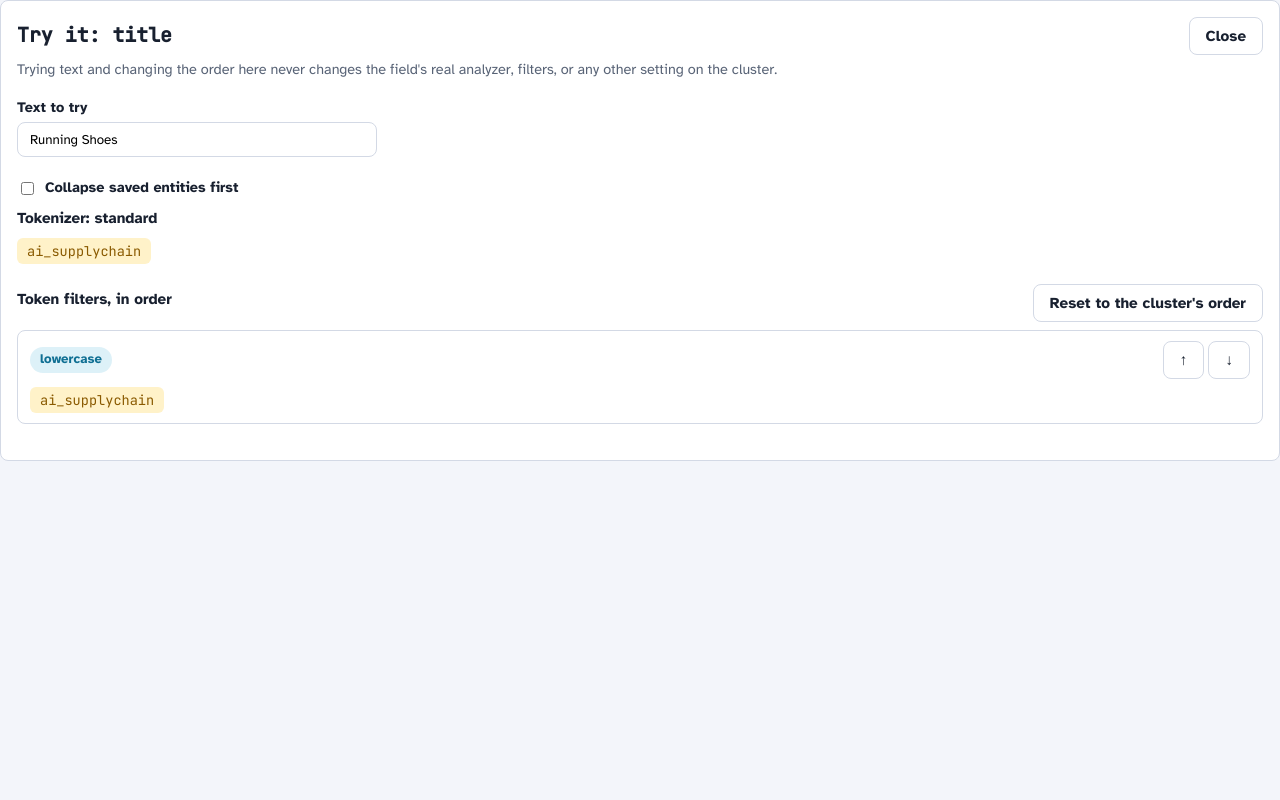
Test: FieldPlayground › shows the entity switch only when an entity list is saved, sends the joined form, and displays the original spacing (R10.4, R10.5)
Replace the text in the field labelled "Text to try" with "ai supplychain tools" at (197, 140), box [17,122,377,157]
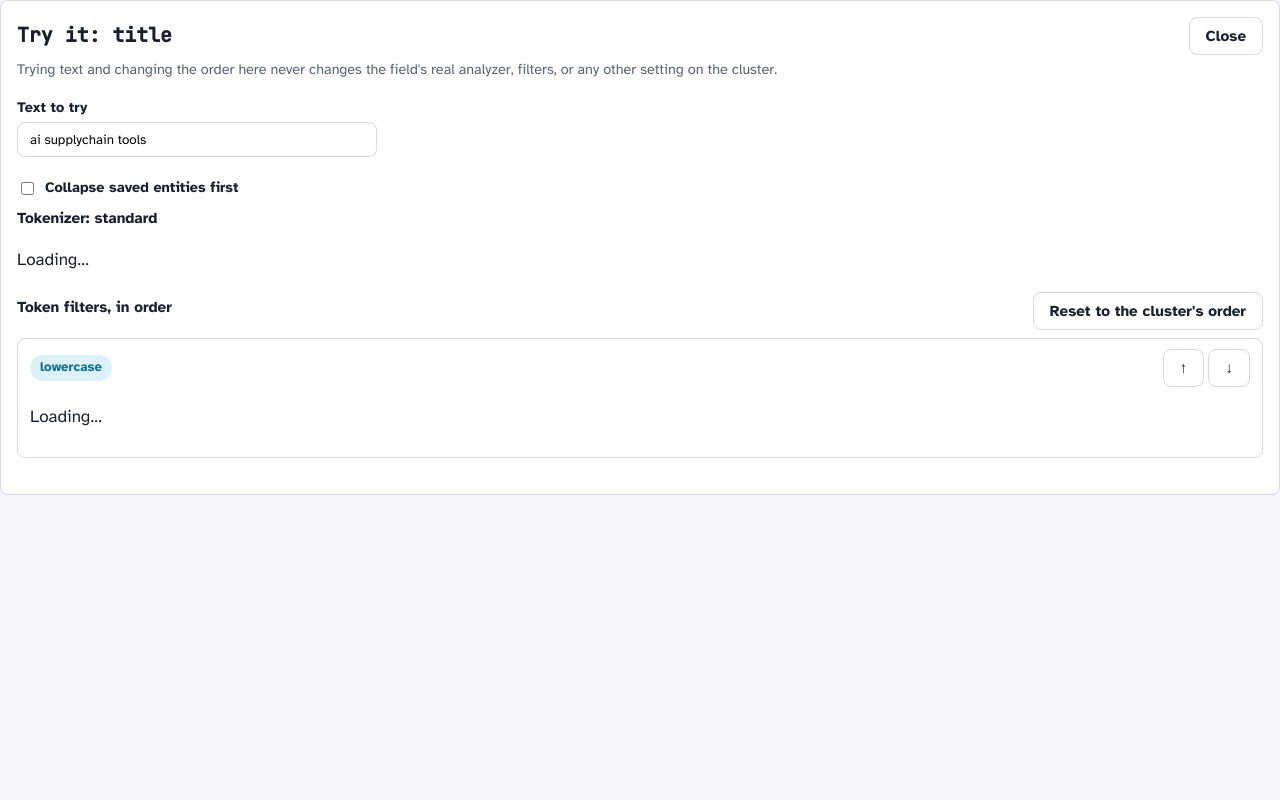
Click the checkbox labelled "Collapse saved entities first".
click(28, 188)  # box [21,182,34,194]
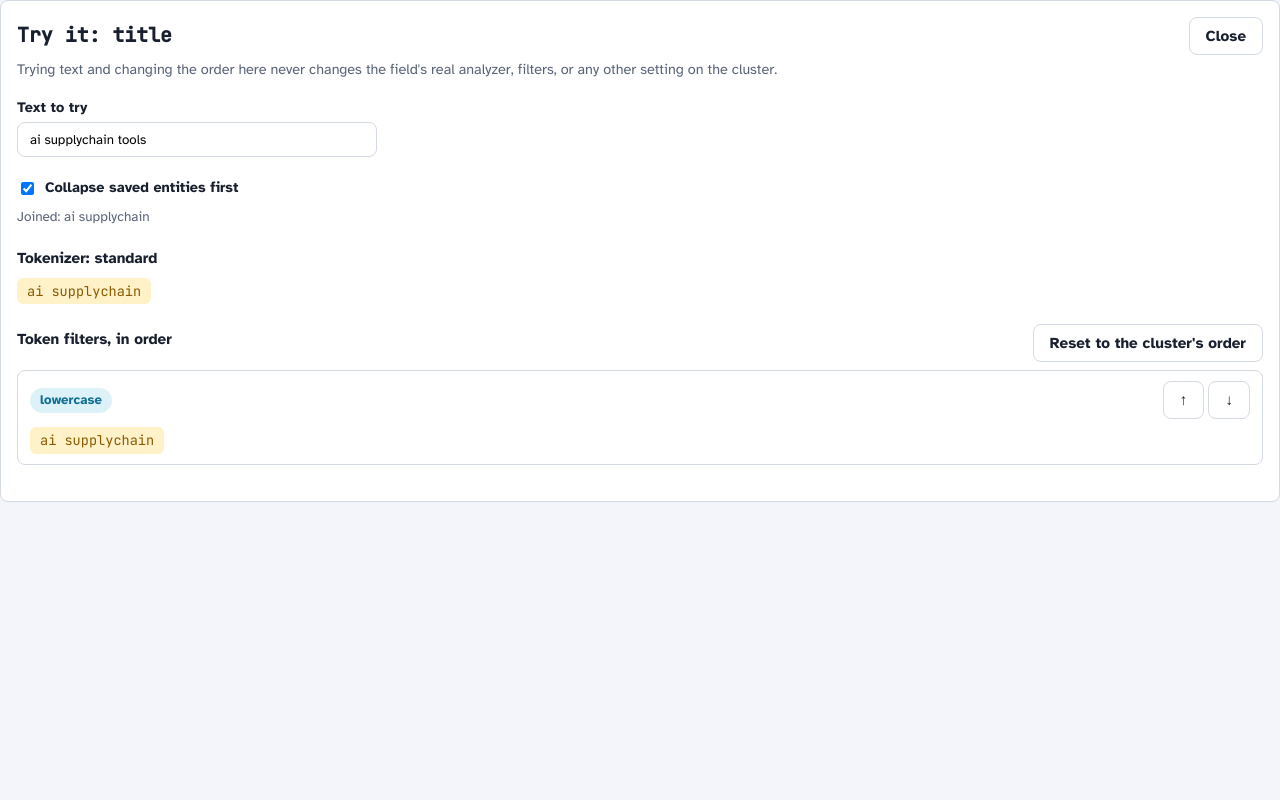
Expected: the text "ai_supplychain" is not shown
Expected: the text "Joined: ai supplychain" is shown, [17,208,150,225]
Expected: the text "ai supplychain" below "Tokenizer:" is shown, [27,282,141,300]
